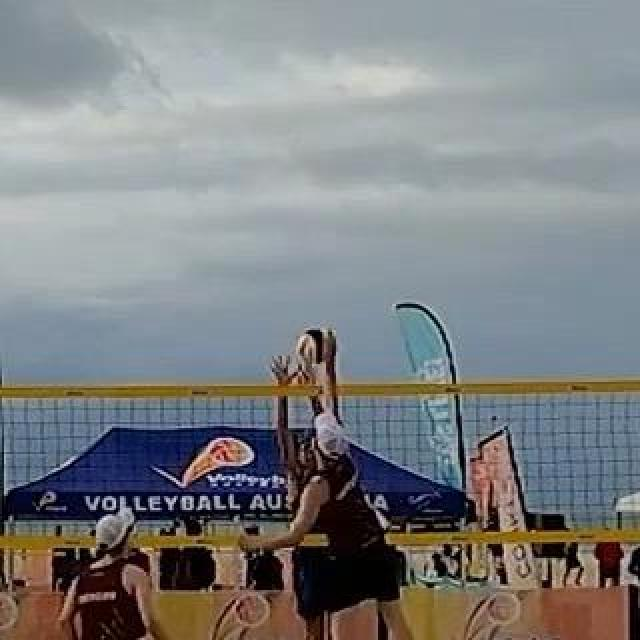volleyball: (296, 330, 332, 364)
